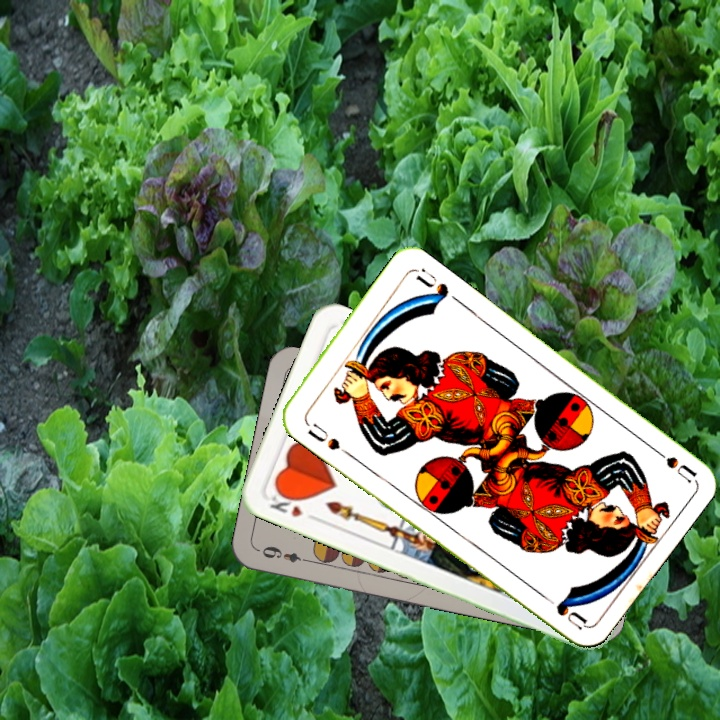E9: (255, 542, 314, 565)
HK: (265, 487, 305, 520)
SU: (644, 440, 698, 484), (300, 415, 351, 457)
